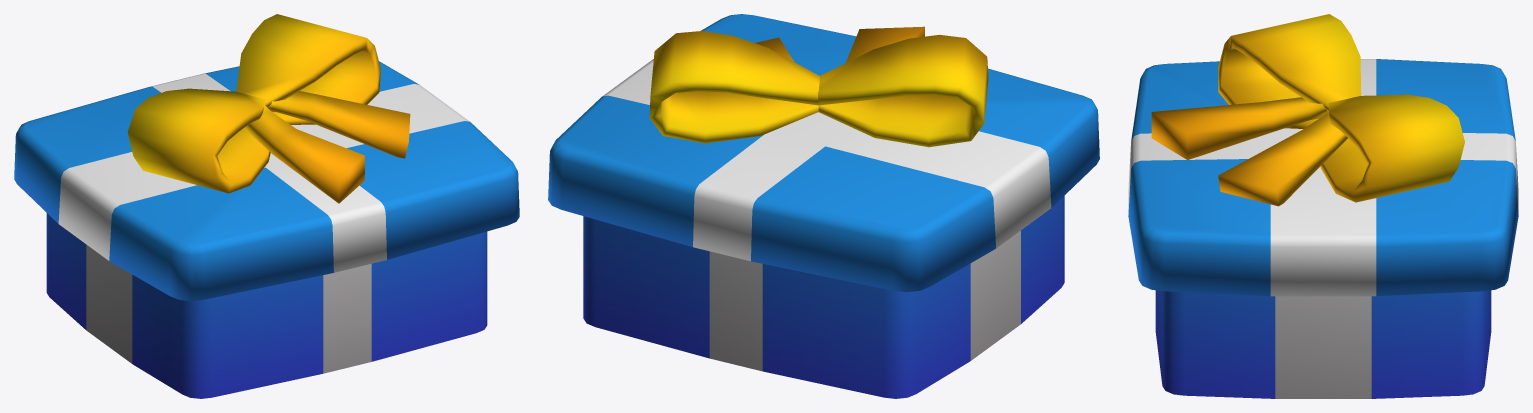
File: Gift_Box_02.fbx
The picture shows the model from 3 angles, left to right: view 1: azimuth 30°, elevation 25°; view 2: azimuth 150°, elevation 25°; view 3: azimuth 270°, elevation 25°; orthographic projection. The views are drawn at different scales.
Visible parts, largest first — view 1: Gift_Box_02; view 2: Gift_Box_02; view 3: Gift_Box_02.
Boxes of the visible parts, box(x1,y1,x2,y2) form: Gift_Box_02: box(14, 14, 519, 398); Gift_Box_02: box(548, 14, 1099, 398); Gift_Box_02: box(1128, 14, 1518, 398).
Bounding box in the file's own units: 37.34 × 22.59 × 33.03.
